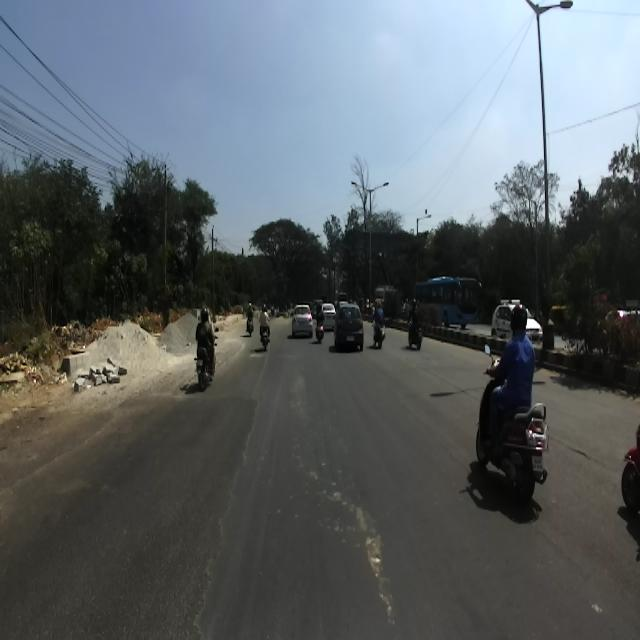motorcycle ahead at: (474, 376, 550, 516)
stones ahead at: (72, 352, 130, 400)
